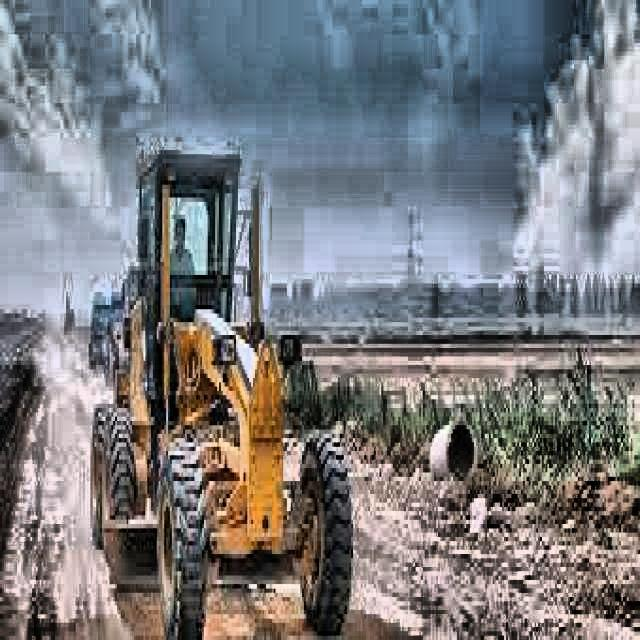bull_dozer/loader/grader: (86, 134, 354, 640)
person: (168, 212, 197, 278)
